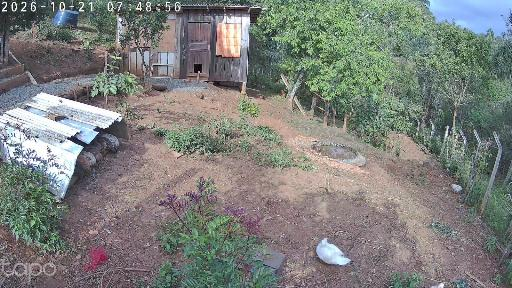frango: (99, 130, 122, 150), (79, 149, 98, 166), (85, 144, 104, 160), (72, 161, 90, 176)
galinha: (261, 85, 266, 88)
galo: (452, 183, 463, 196), (281, 90, 286, 98)
pato: (312, 235, 353, 268)
